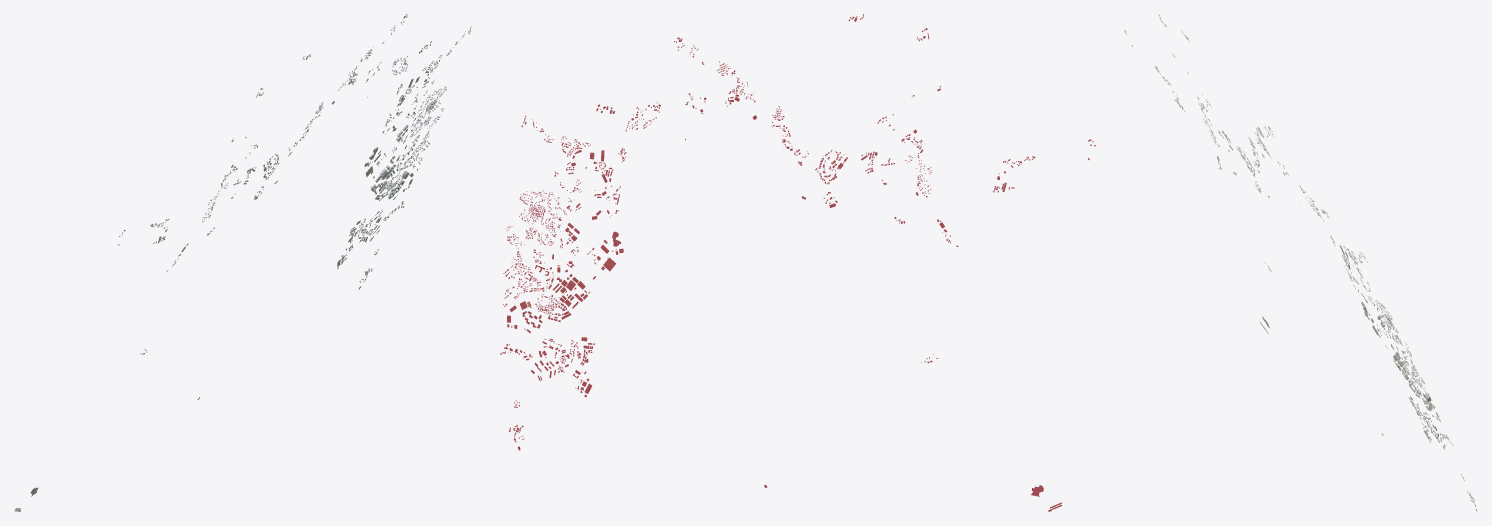
3 renders of one model, left to right at view 1: azimuth 30°, elevation 25°; view 2: azimuth 150°, elevation 25°; view 3: azimuth 270°, elevation 25°, orthographic. The views are drawn at different scales.
Visible parts, largest first — view 1: geometry_0; view 2: geometry_0; view 3: geometry_0.
Part boxes in pixels (box(x1,y1,x2,y2)): geometry_0: box(14, 14, 471, 511); geometry_0: box(500, 14, 1095, 511); geometry_0: box(1124, 14, 1477, 511).
Bounding box in the file's own units: 4764 × 3834 × 2945.
